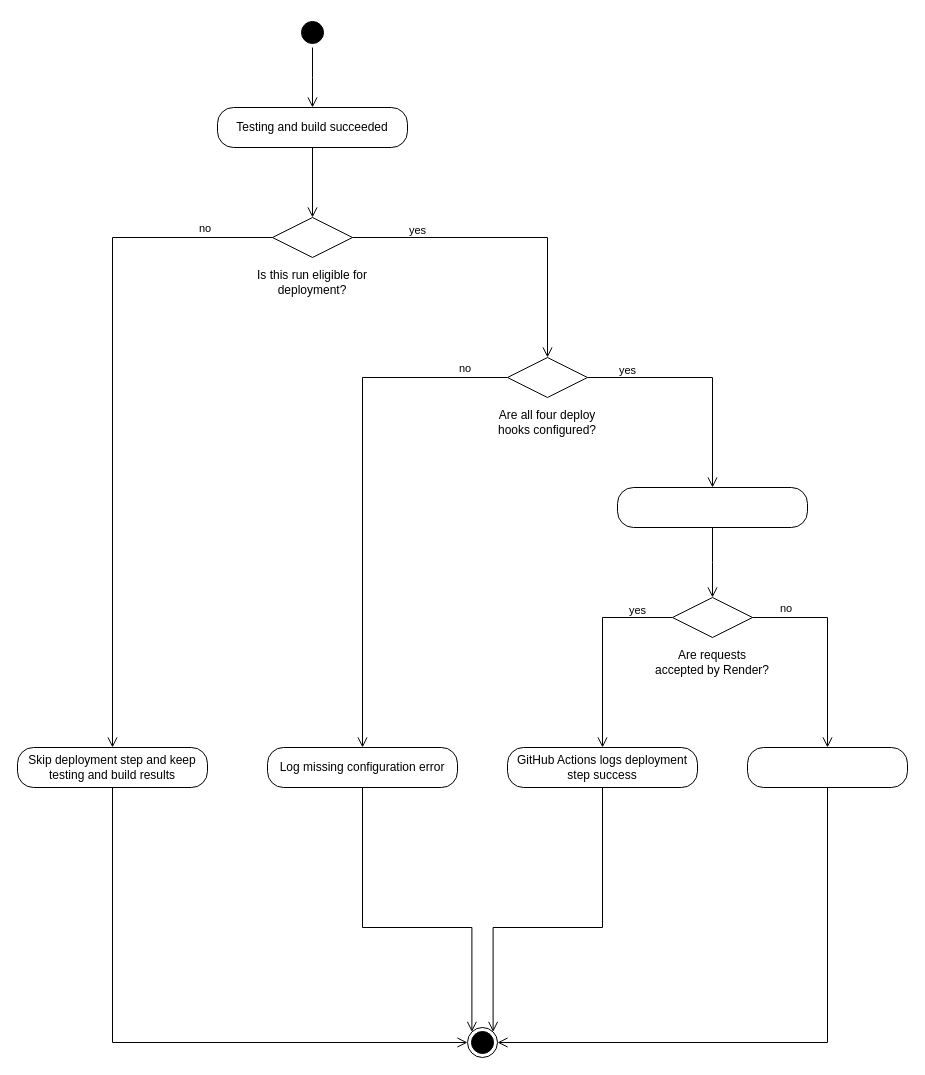
Image size: 925x1075. Some labels were removed from this diagram. Each missing label, with the centre of its shape:
"Changes require testing or actor manually triggers workflow" belongs at point 712,507.
"Log error and stop remaining steps" belongs at point 827,767.
